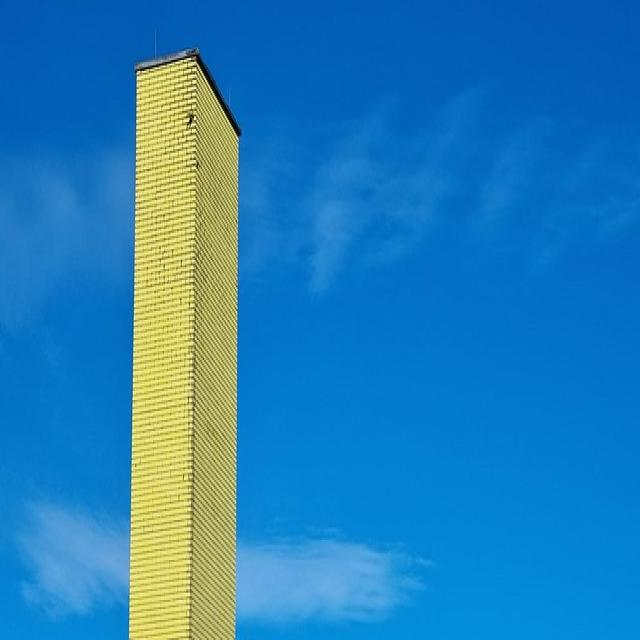building: (121, 32, 244, 640)
